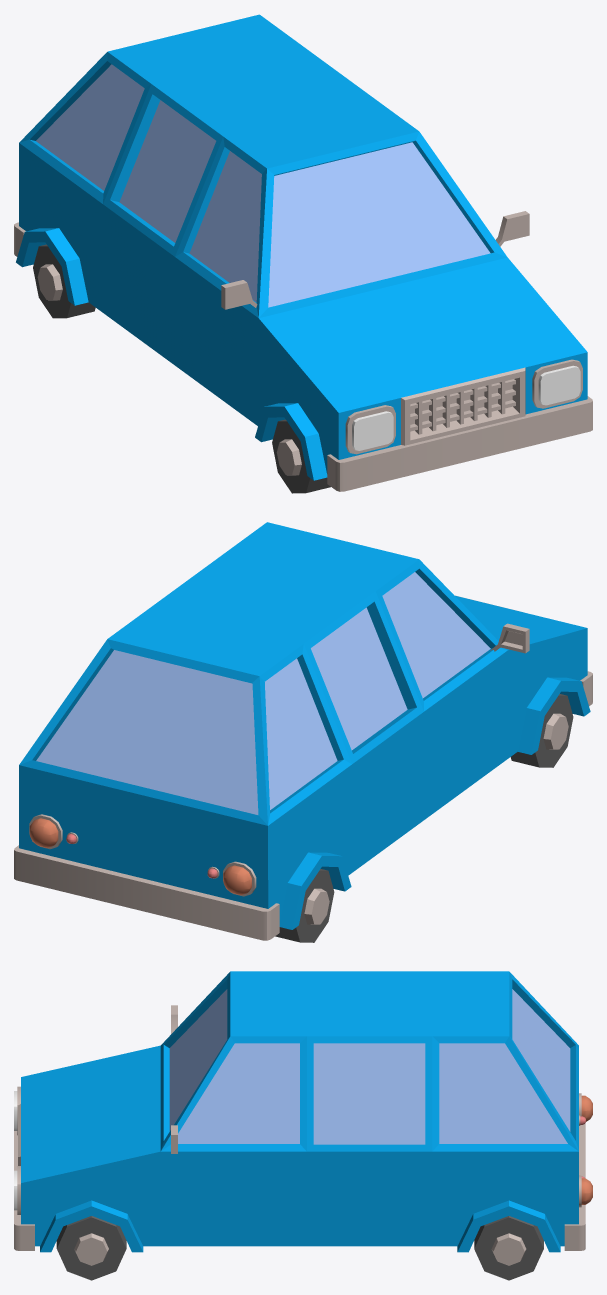
Rendered from wagon.fbx.
3 views of the same model, one above another, from view 1: azimuth 30°, elevation 25°; view 2: azimuth 150°, elevation 25°; view 3: azimuth 270°, elevation 25° (orthographic). The views are drawn at different scales.
Visible parts, largest first — view 1: mesh_wagon; view 2: mesh_wagon; view 3: mesh_wagon.
Boxes of the visible parts, left/top/right/bottom form: mesh_wagon: left=14, top=14, right=592, bottom=493; mesh_wagon: left=14, top=522, right=592, bottom=942; mesh_wagon: left=14, top=971, right=592, bottom=1280.
Bounding box in the file's own units: 0.99 × 0.7875 × 1.87.
